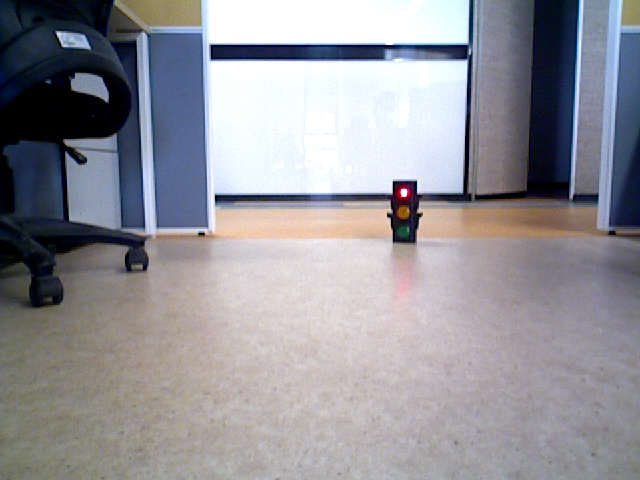red: (393, 182, 413, 237)
